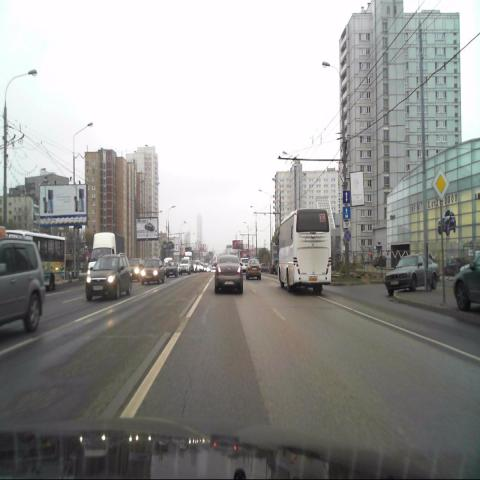2_1: (432, 168, 448, 199)
3_27: (344, 228, 352, 242)
5_14: (343, 206, 350, 219)
5_8: (343, 191, 350, 203)
